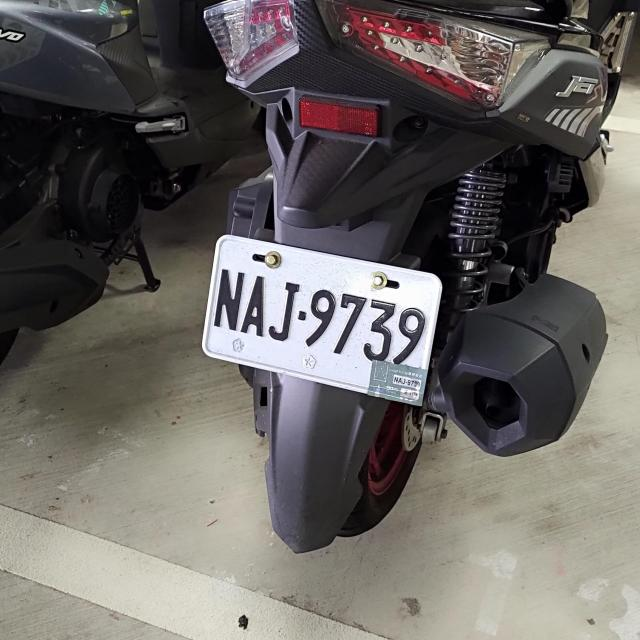W: (195, 234, 448, 400)
